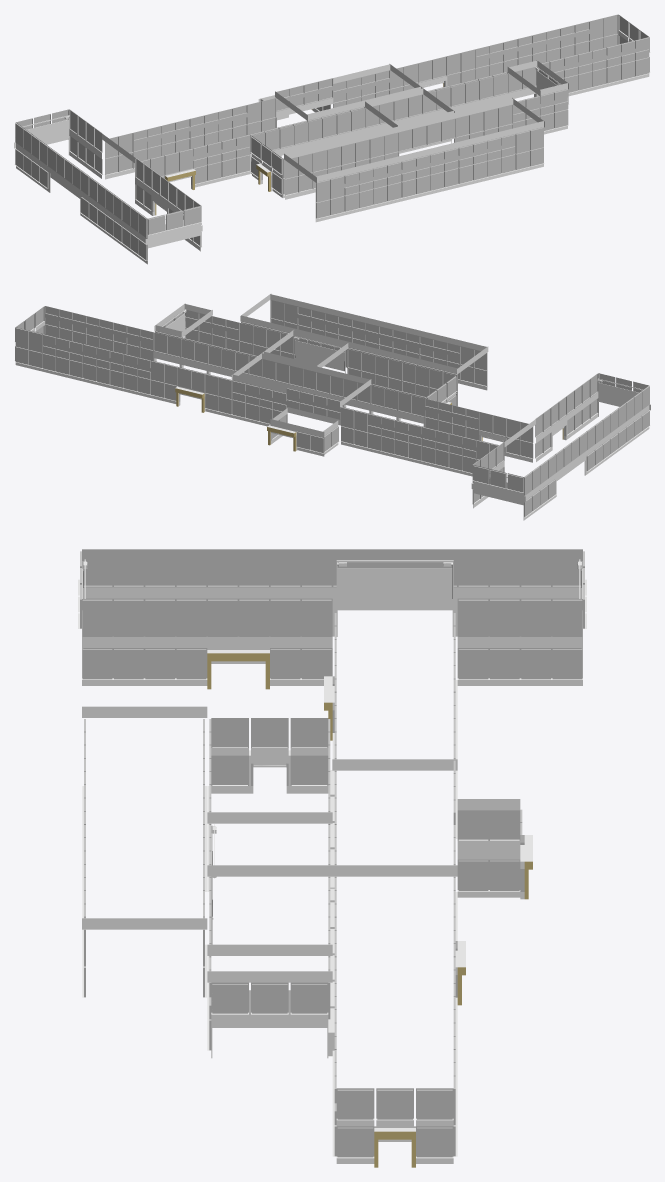
Rendered from s_steel_factory_interior_walls.dae.
3 views of the same model, one above another, from view 1: azimuth 30°, elevation 25°; view 2: azimuth 150°, elevation 25°; view 3: azimuth 270°, elevation 25° (orthographic). The views are drawn at different scales.
Visible parts, largest first — view 1: Colmesh_s_factory_interior_walls-1; view 2: Colmesh_s_factory_interior_walls-1; view 3: Colmesh_s_factory_interior_walls-1.
Boxes of the visible parts, <box> form: Colmesh_s_factory_interior_walls-1: <box>14,14,650,264</box>; Colmesh_s_factory_interior_walls-1: <box>14,293,650,520</box>; Colmesh_s_factory_interior_walls-1: <box>78,549,586,1167</box>.
Bounding box in the file's own units: 303 × 122 × 23.
